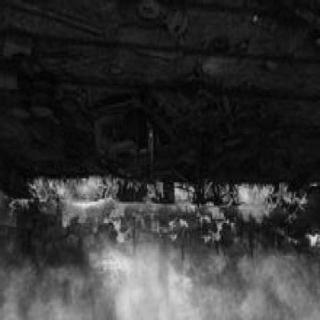Fire: (7, 176, 310, 248), (304, 236, 320, 252)
Smoke: (96, 256, 212, 316)
